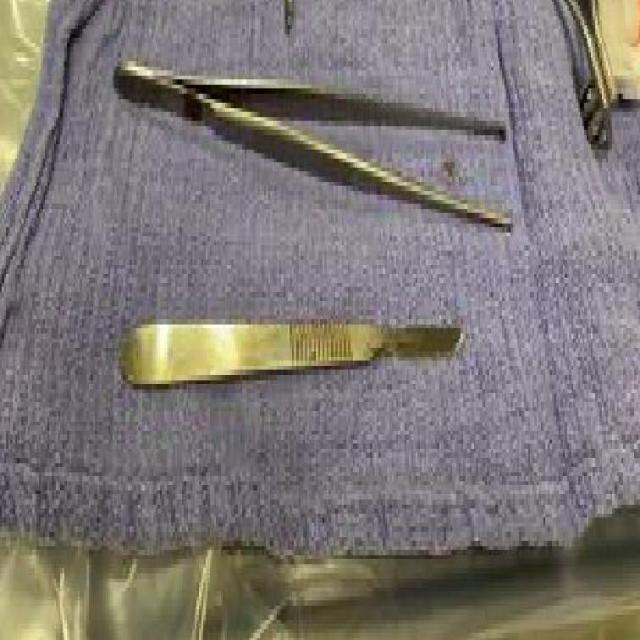Forceps: (109, 43, 519, 249)
Scalpel: (118, 299, 472, 400)
Weitlaner: (563, 0, 619, 166)
